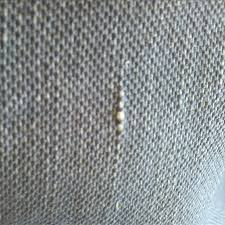Hole: (90, 67, 145, 221)
